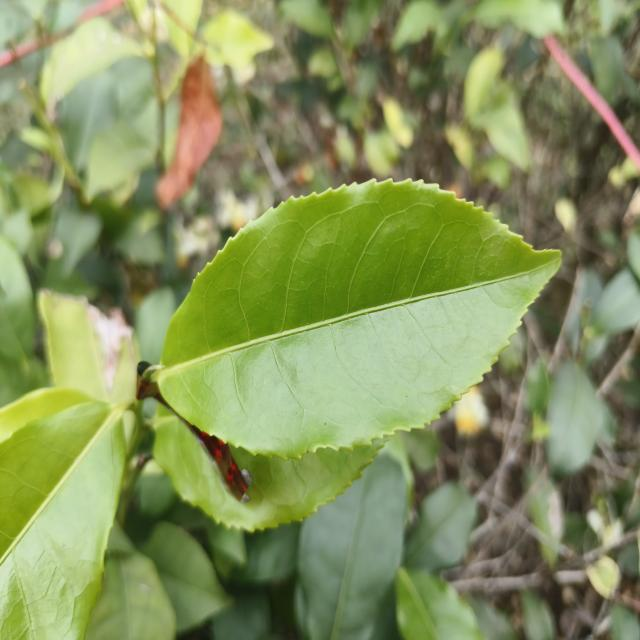Leaf: (157, 180, 560, 458), (0, 400, 127, 640), (154, 408, 382, 532), (298, 456, 406, 640), (38, 289, 138, 404), (139, 522, 231, 634), (40, 18, 142, 114), (85, 552, 176, 640), (546, 361, 608, 475), (404, 482, 476, 571), (396, 568, 484, 640), (57, 70, 119, 172), (85, 122, 154, 200), (0, 237, 34, 363), (202, 10, 274, 68), (528, 469, 564, 565), (474, 0, 564, 38), (590, 269, 640, 334), (135, 287, 176, 364), (55, 209, 102, 275), (464, 47, 504, 120), (392, 0, 444, 50), (280, 0, 334, 38), (521, 590, 556, 640), (526, 358, 550, 417)
